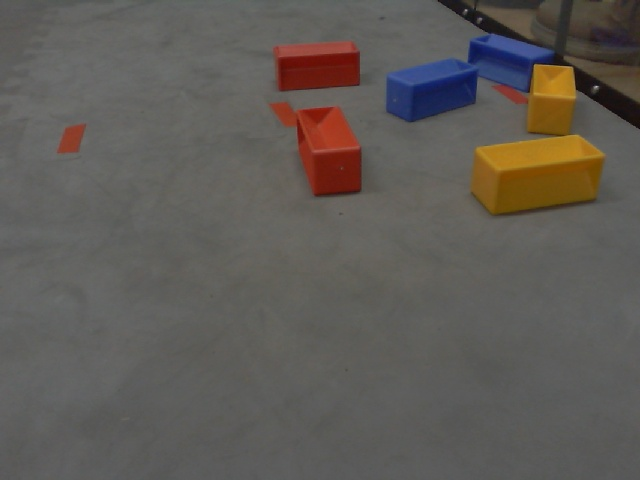BlueSample: (463, 26, 558, 100), (381, 56, 480, 121)
RedSample: (290, 103, 370, 199), (267, 41, 366, 93)
YellowSample: (468, 134, 609, 215), (519, 60, 583, 137)
